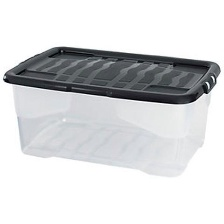plastic_box: (0, 35, 224, 184)
